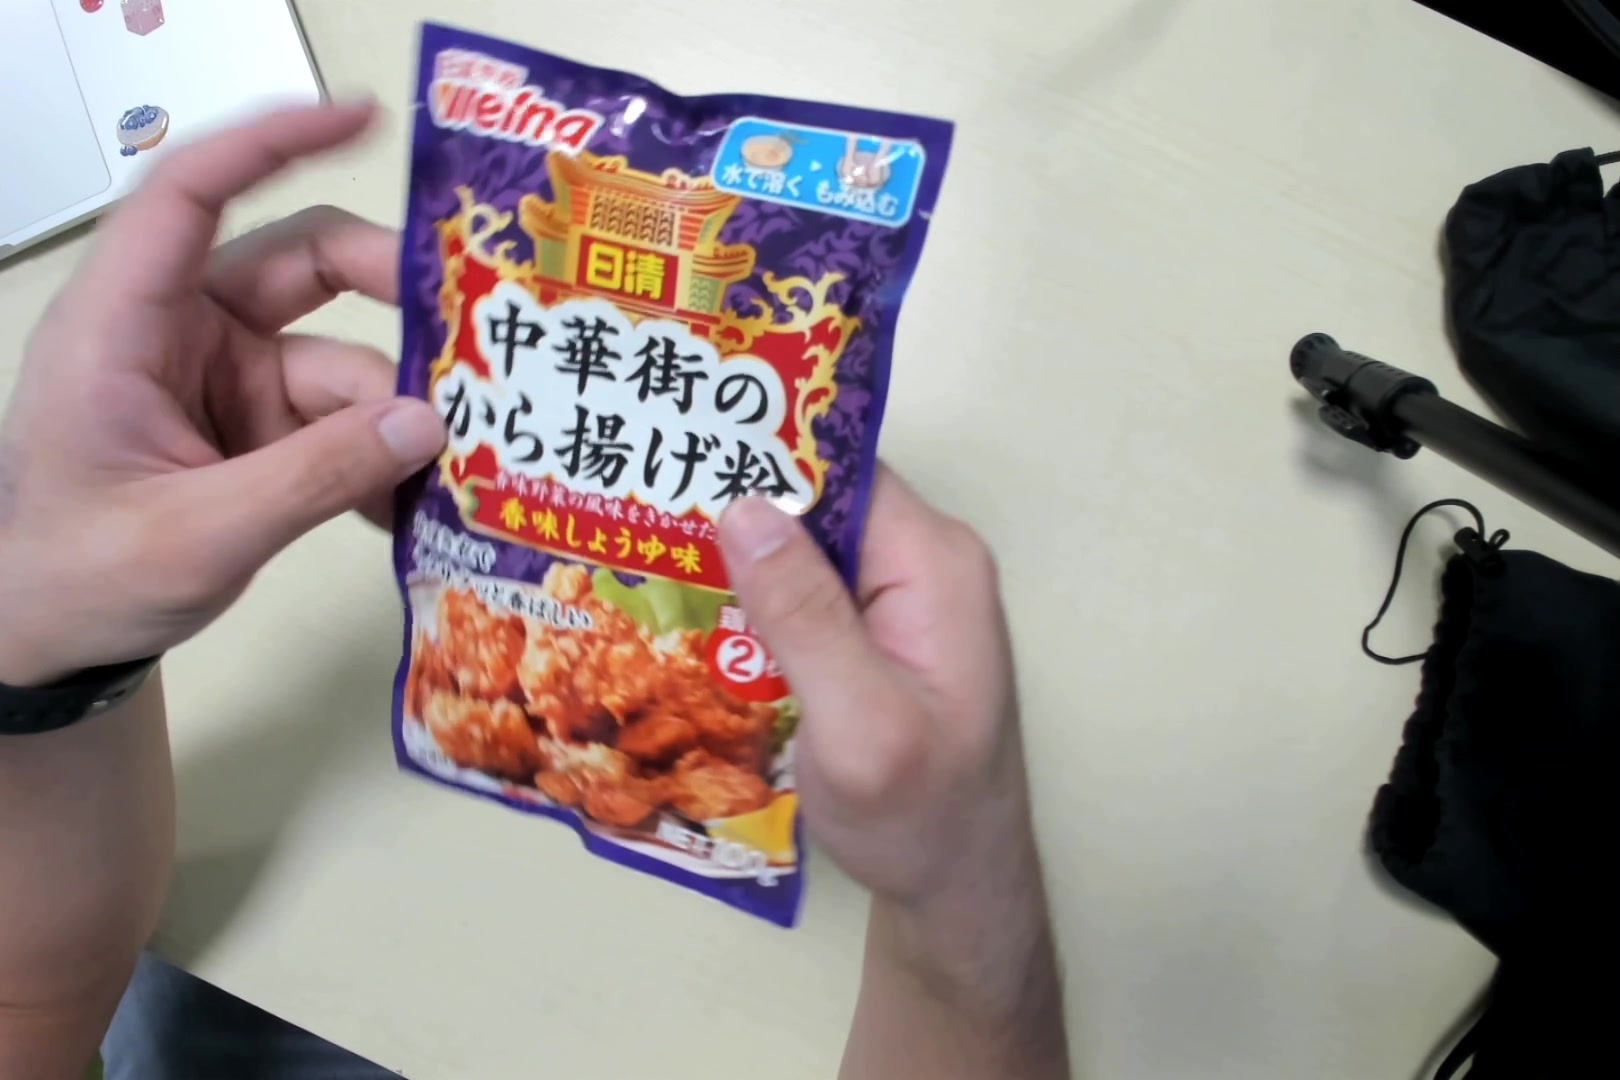OtherBakingNeeds_100-199g_NonHalal_NonHealthy: (392, 29, 956, 934)
